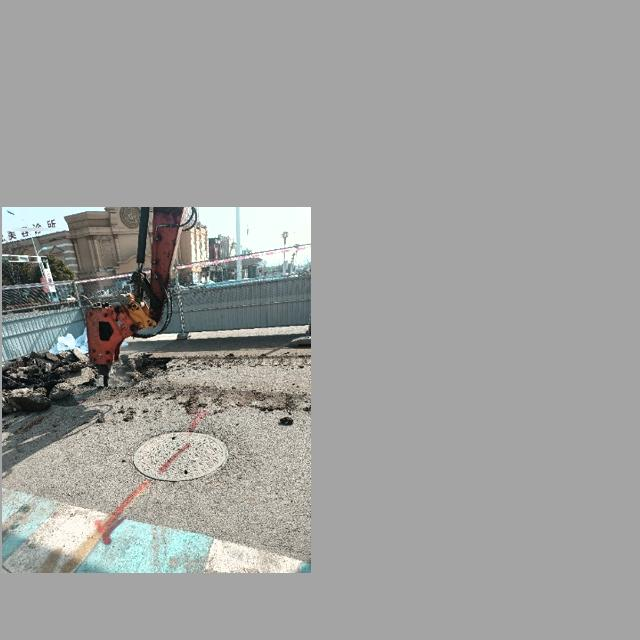good: (132, 428, 225, 481)
